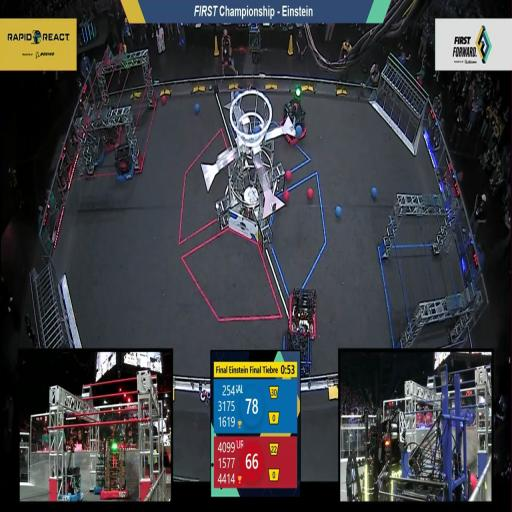robot: (400, 384, 470, 504), (346, 406, 404, 503), (100, 441, 128, 500), (286, 289, 318, 340), (280, 334, 313, 378), (281, 100, 308, 146), (100, 112, 124, 156), (92, 439, 110, 495), (113, 146, 135, 184), (59, 470, 84, 502), (86, 133, 106, 169)
